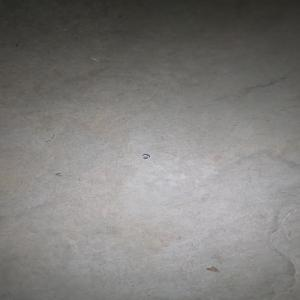Nut: (140, 154, 150, 160)
